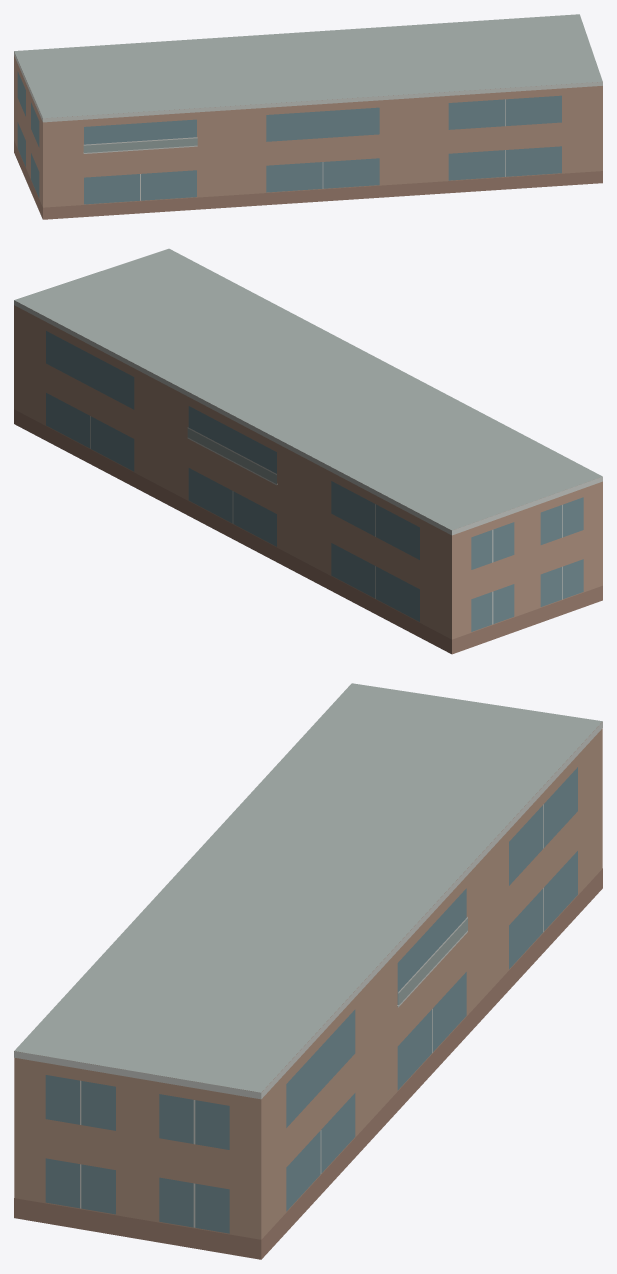
Rendered from survey-upis-32875624.glb.
3 renders of one model, top to bottom at view 1: azimuth 30°, elevation 25°; view 2: azimuth 150°, elevation 25°; view 3: azimuth 270°, elevation 25°, orthographic. The views are drawn at different scales.
Parts seen in each view (by area): view 1: survey-upis-32875624.tmp; view 2: survey-upis-32875624.tmp; view 3: survey-upis-32875624.tmp.
Part boxes in pixels (bbox=[...]): survey-upis-32875624.tmp: bbox=[14, 14, 602, 219]; survey-upis-32875624.tmp: bbox=[14, 248, 602, 654]; survey-upis-32875624.tmp: bbox=[14, 683, 602, 1259].
Size of the model in its own units: 32.09 by 6.1 by 19.5.
